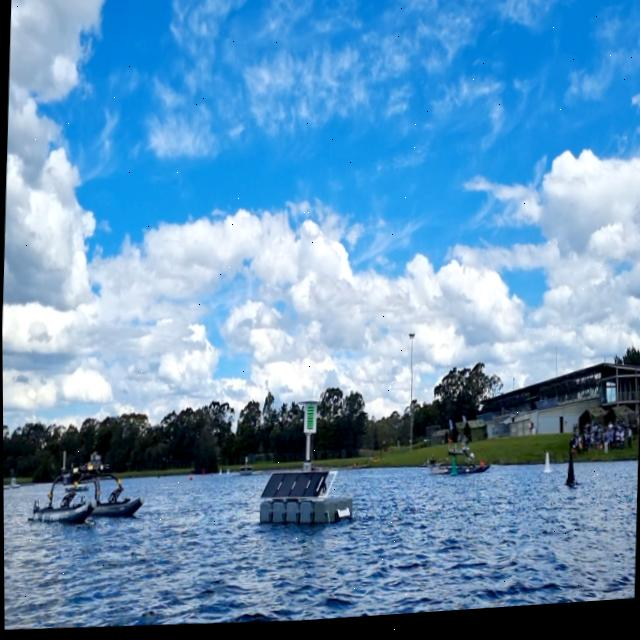led: (303, 407, 315, 436)
